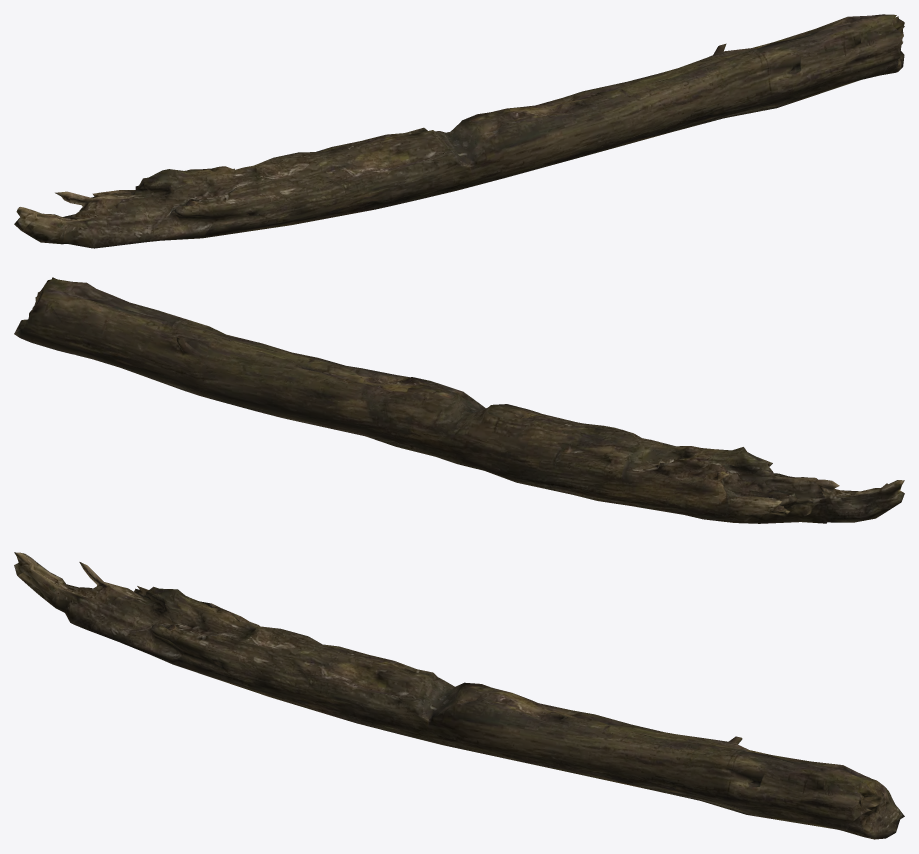
Rendered from log.glb.
3 renders of one model, top to bottom at view 1: azimuth 30°, elevation 25°; view 2: azimuth 150°, elevation 25°; view 3: azimuth 330°, elevation 25°, orthographic.
Visible parts, largest first — view 1: dead_tree_trunk; view 2: dead_tree_trunk; view 3: dead_tree_trunk.
Boxes of the visible parts, box(x1,y1,x2,y2) form: dead_tree_trunk: box(14, 14, 904, 248); dead_tree_trunk: box(14, 277, 904, 523); dead_tree_trunk: box(14, 552, 904, 839).
Size of the model in its own units: 3.04 by 0.2847 by 0.2773.
1 material, 1 textured.
